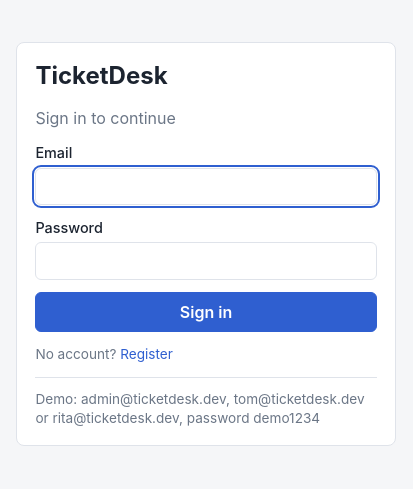
Test: Login page › shows the server's error message when the login is rejected
Type "rita@example.com" into the field labelled "Email". click: (206, 186)
box: [35,168,377,205]
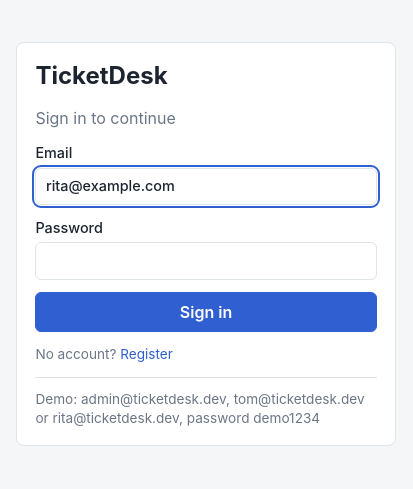
Type "wrong-password" into the password field labelled "Password". click: (206, 261)
box: [35,242,377,280]
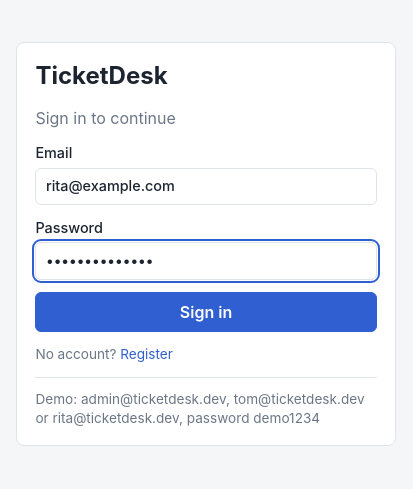
Click the button "Sign in". click: (206, 312)
box: [35,292,377,332]
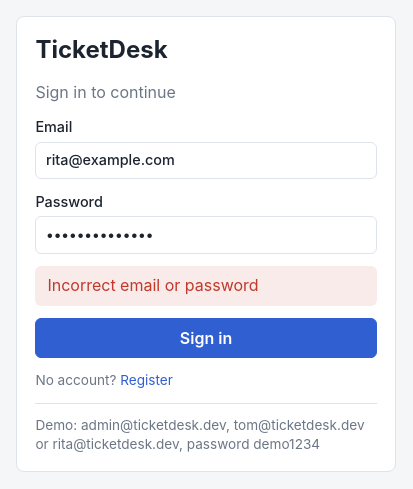
expect the message reads "Incorrect email or password": met, box [47,276,259,296]
